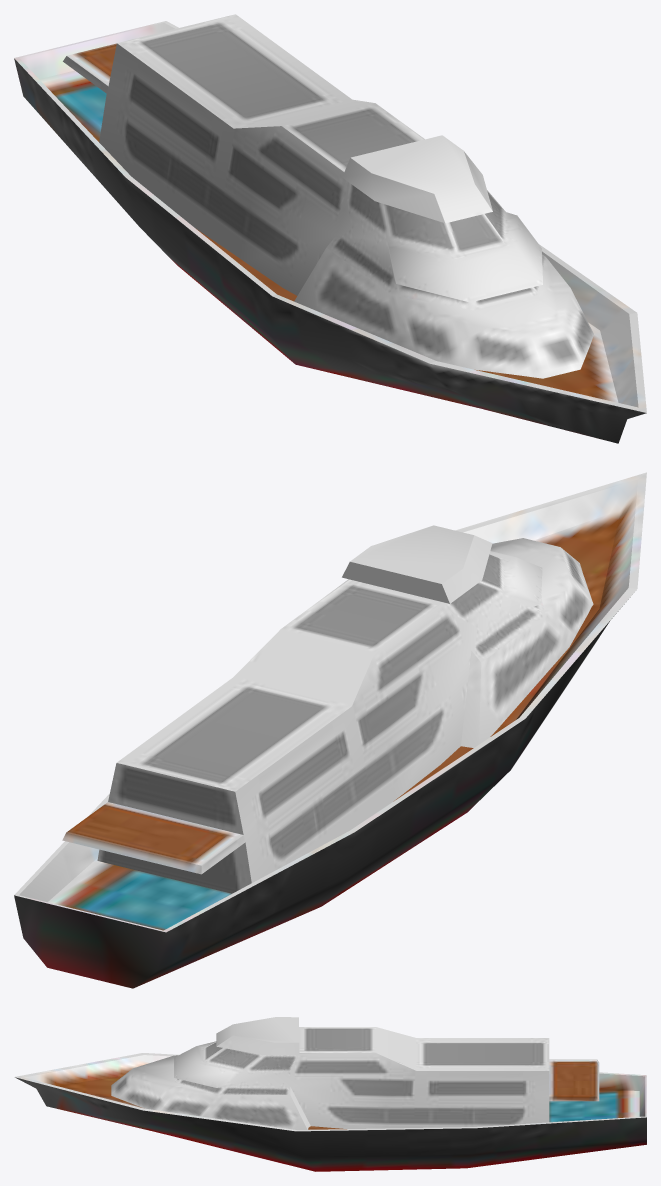
3 renders of one model, top to bottom at view 1: azimuth 30°, elevation 25°; view 2: azimuth 150°, elevation 25°; view 3: azimuth 270°, elevation 25°, orthographic. The views are drawn at different scales.
Parts seen in each view (by area): view 1: 633d2abd0d3b63a338157076; view 2: 633d2abd0d3b63a338157076; view 3: 633d2abd0d3b63a338157076.
Boxes of the visible parts, x1,y1,x2,y2 form: 633d2abd0d3b63a338157076: (14, 14, 646, 443); 633d2abd0d3b63a338157076: (14, 472, 646, 988); 633d2abd0d3b63a338157076: (14, 1017, 646, 1171).
Bounding box in the file's own units: 9.48 × 7.46 × 36.13.
Materials: 1 (1 with a texture image).
